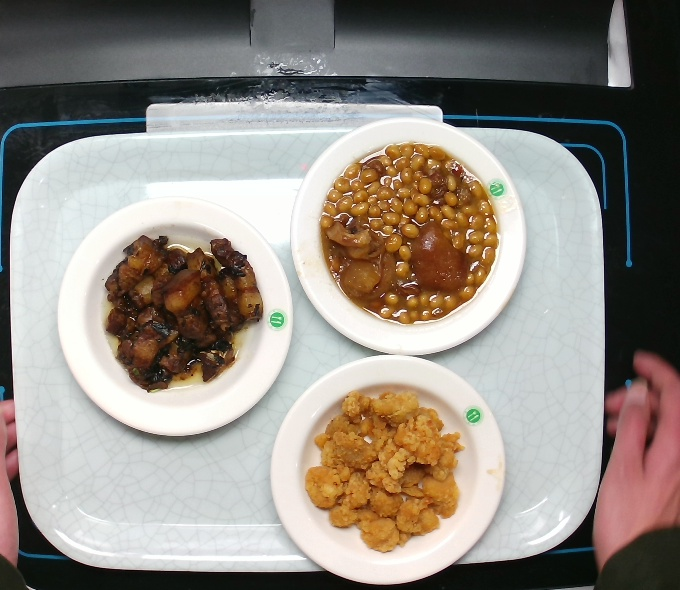wcq-GanCaiRou: (101, 228, 269, 394)
wcq-HuangDouZhuJiao: (315, 139, 504, 327)
wcq-JiMiHua: (299, 384, 469, 555)
